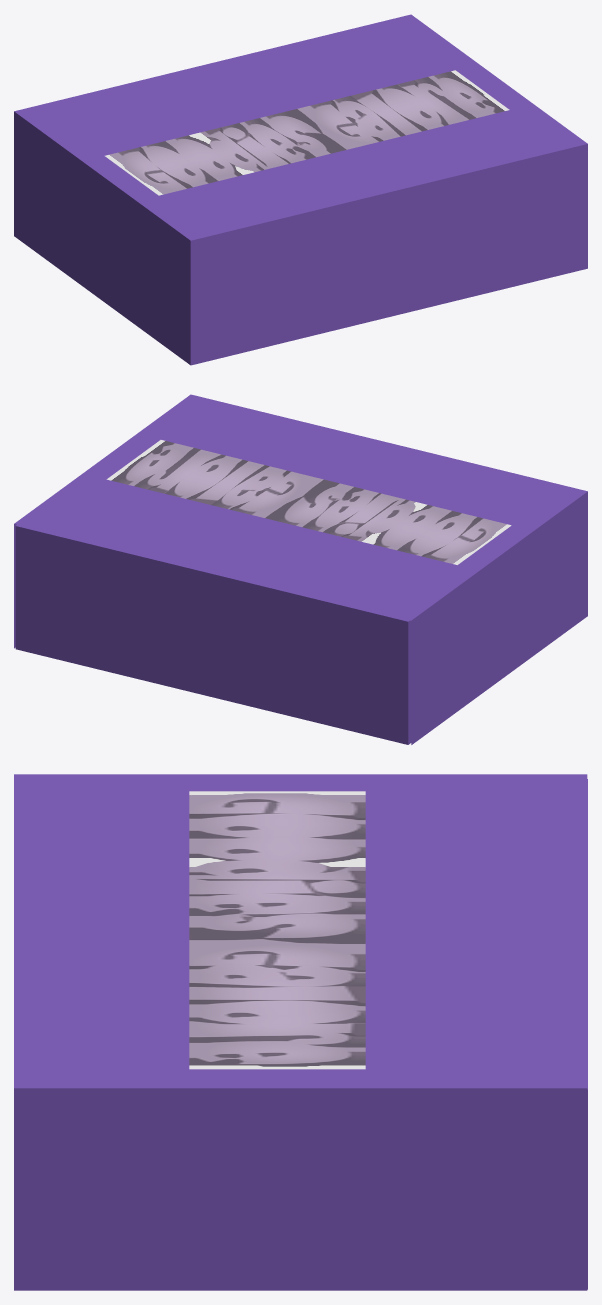
Rendered from Bakery_Box_C_02.FBX.
3 views of the same model, one above another, from view 1: azimuth 30°, elevation 25°; view 2: azimuth 150°, elevation 25°; view 3: azimuth 270°, elevation 25° (orthographic). The views are drawn at different scales.
Visible parts, largest first — view 1: Lid; view 2: Lid, Bakery_Box; view 3: Lid.
Boxes of the visible parts, x1,y1,x2,y2 form: Lid: (14,14,587,365); Lid: (14,394,587,744); Bakery_Box: (15,524,411,744); Lid: (14,774,587,1290).
Bounding box in the file's own units: 152 × 45.62 × 117.
